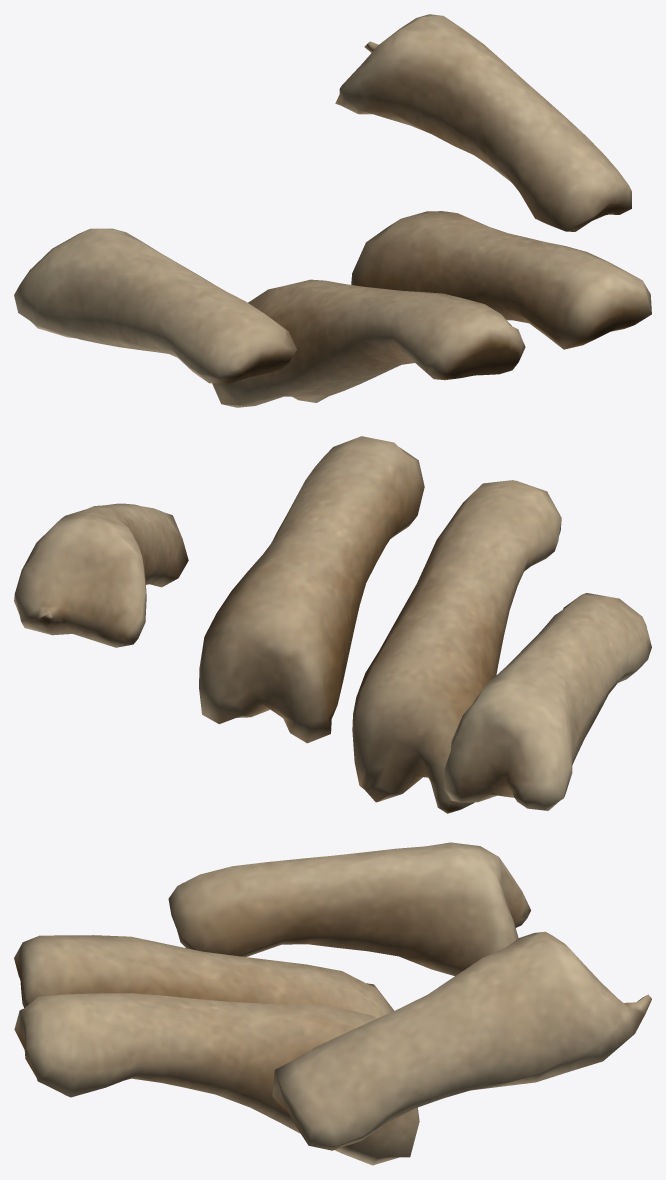
The model's file is Proximal Phalanges.glb.
3 views of the same model, one above another, from view 1: azimuth 30°, elevation 25°; view 2: azimuth 150°, elevation 25°; view 3: azimuth 270°, elevation 25° (orthographic). The views are drawn at different scales.
Visible parts, largest first — view 1: polySurface32, polySurface35, polySurface34, polySurface33; view 2: polySurface33, polySurface34, polySurface35, polySurface32; view 3: polySurface32, polySurface35, polySurface33, polySurface34.
Part boxes in pixels (x1,y1,x2,y2): polySurface32: (335, 14, 631, 231); polySurface35: (14, 228, 296, 383); polySurface34: (212, 279, 525, 407); polySurface33: (351, 211, 651, 349); polySurface33: (199, 436, 424, 743); polySurface34: (352, 480, 561, 813); polySurface35: (444, 593, 651, 810); polySurface32: (14, 503, 188, 647); polySurface32: (272, 931, 651, 1150); polySurface35: (168, 842, 530, 975); polySurface33: (14, 993, 419, 1165); polySurface34: (14, 935, 393, 1018).
Bounding box in the file's own units: 39.9 × 19.83 × 37.37.
Materials: 1 (1 with a texture image).
